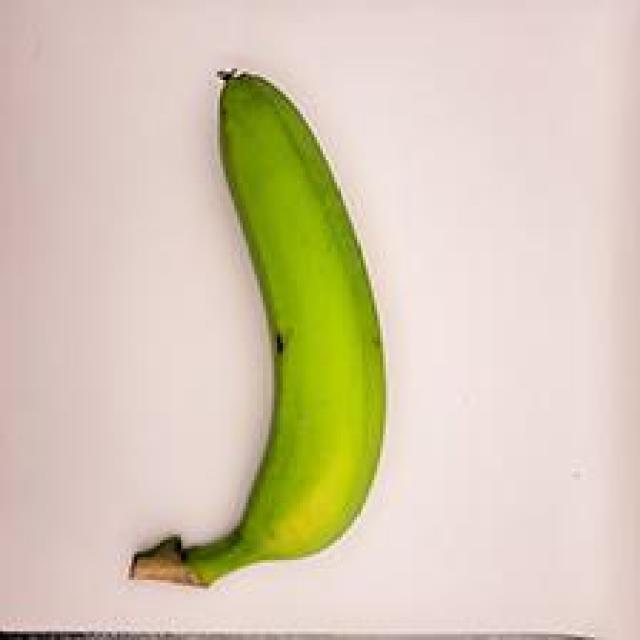Unripe: (109, 44, 413, 617)
